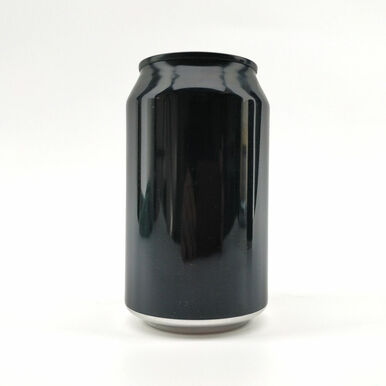can: (123, 49, 276, 336)
